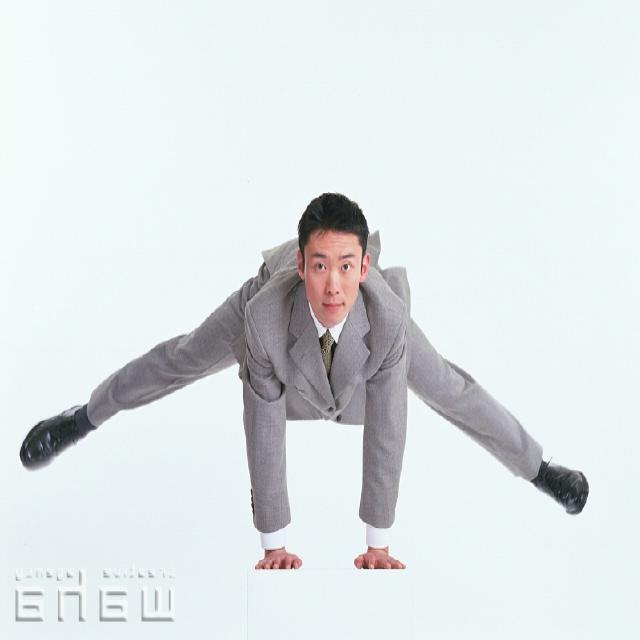direk: (14, 190, 594, 574)
